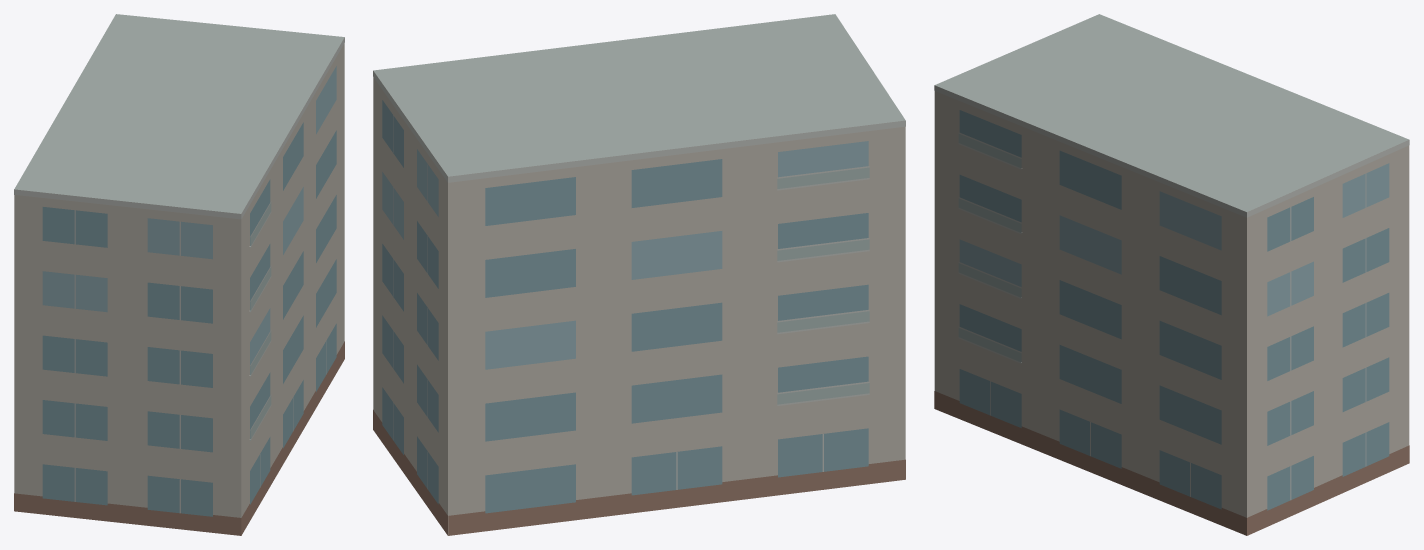
Rendered from survey-upis-33025692.glb.
The picture shows the model from 3 angles, left to right: view 1: azimuth 30°, elevation 25°; view 2: azimuth 150°, elevation 25°; view 3: azimuth 270°, elevation 25°; orthographic projection. The views are drawn at different scales.
Visible parts, largest first — view 1: survey-upis-33025692.tmp; view 2: survey-upis-33025692.tmp; view 3: survey-upis-33025692.tmp.
Boxes of the visible parts, box(x1,y1,x2,y2) form: survey-upis-33025692.tmp: box(14, 14, 344, 535); survey-upis-33025692.tmp: box(373, 14, 905, 535); survey-upis-33025692.tmp: box(934, 14, 1409, 535).
Size of the model in its own units: 18.79 by 14.3 by 19.03.
